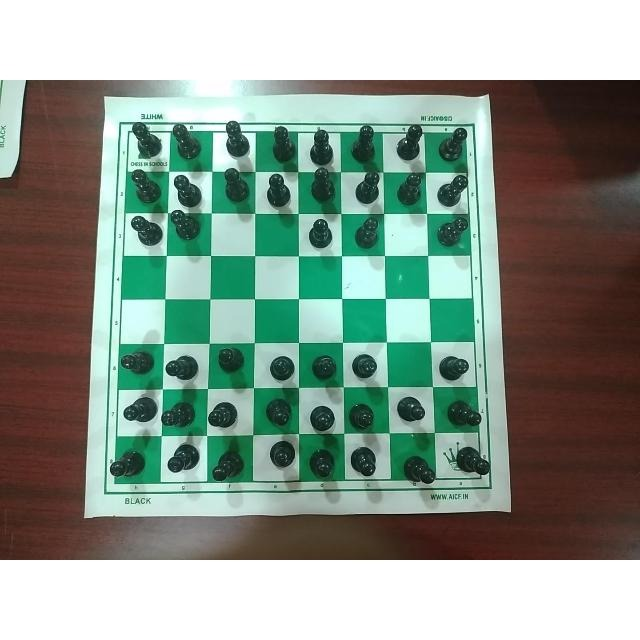black-pawn: (125, 208, 167, 252), (445, 394, 489, 434), (167, 167, 208, 207), (452, 444, 493, 484), (118, 386, 158, 426), (202, 392, 245, 429), (163, 346, 203, 385), (109, 442, 147, 481), (436, 120, 469, 164), (389, 120, 425, 160), (160, 388, 196, 428), (404, 449, 440, 489), (348, 399, 387, 435), (166, 442, 201, 481), (267, 120, 298, 164), (348, 120, 379, 164), (173, 116, 205, 158), (434, 350, 476, 382), (130, 166, 163, 206), (264, 167, 296, 208), (127, 118, 161, 156), (213, 444, 243, 487), (308, 124, 340, 164), (219, 162, 251, 202), (395, 391, 428, 429), (350, 349, 385, 384), (395, 171, 429, 207), (219, 119, 251, 157), (169, 210, 201, 248), (120, 343, 154, 378), (437, 173, 470, 209), (308, 444, 341, 480), (215, 341, 247, 378), (356, 165, 384, 207), (267, 352, 301, 386), (263, 393, 294, 430), (265, 439, 298, 473), (307, 402, 339, 435), (309, 166, 337, 203), (309, 348, 340, 381), (306, 212, 335, 247), (440, 216, 471, 248), (354, 213, 380, 251), (349, 444, 377, 477)
